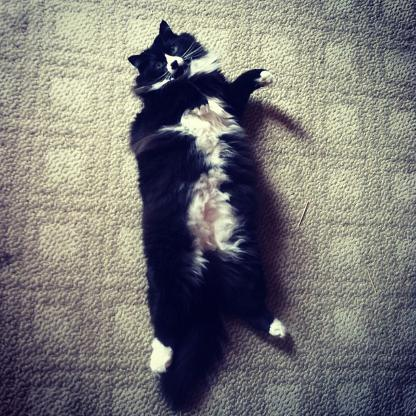Cat: (122, 18, 286, 374)
